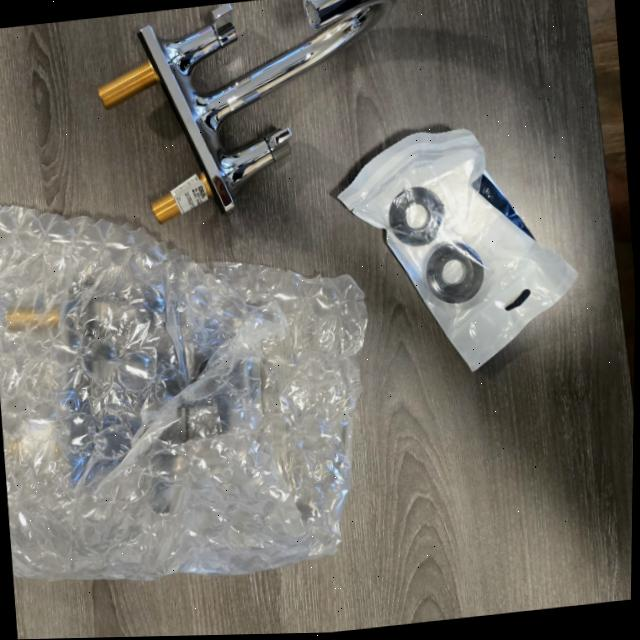10: (99, 0, 395, 222)
13: (338, 128, 577, 369)
9c: (0, 205, 367, 578)
